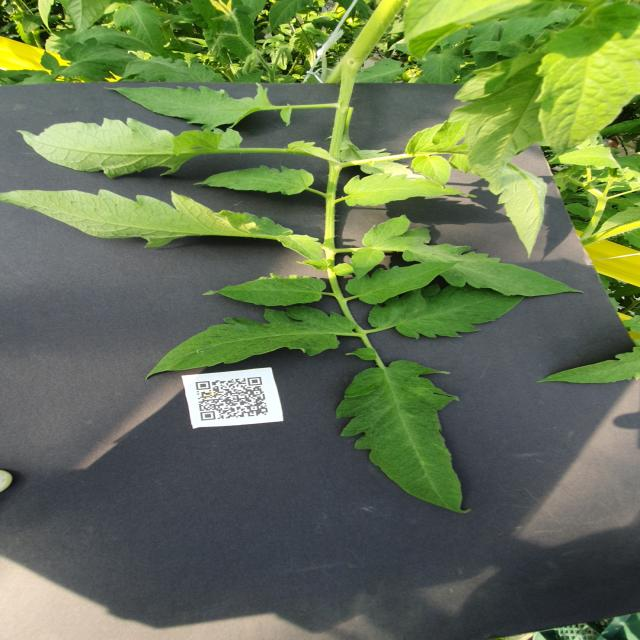Healthy Leaf: (1, 188, 329, 264), (334, 360, 474, 516), (405, 122, 551, 262), (350, 213, 586, 298), (534, 1, 640, 158), (147, 306, 358, 381), (446, 50, 545, 195), (19, 119, 244, 180), (368, 285, 527, 342), (103, 83, 275, 130), (345, 261, 463, 306), (344, 174, 478, 209), (201, 273, 330, 308), (535, 346, 640, 385), (193, 166, 317, 197), (62, 37, 143, 83), (113, 1, 165, 56), (123, 56, 228, 83), (500, 14, 556, 47), (420, 50, 467, 85), (355, 58, 408, 84), (267, 1, 304, 33), (39, 51, 63, 73)
